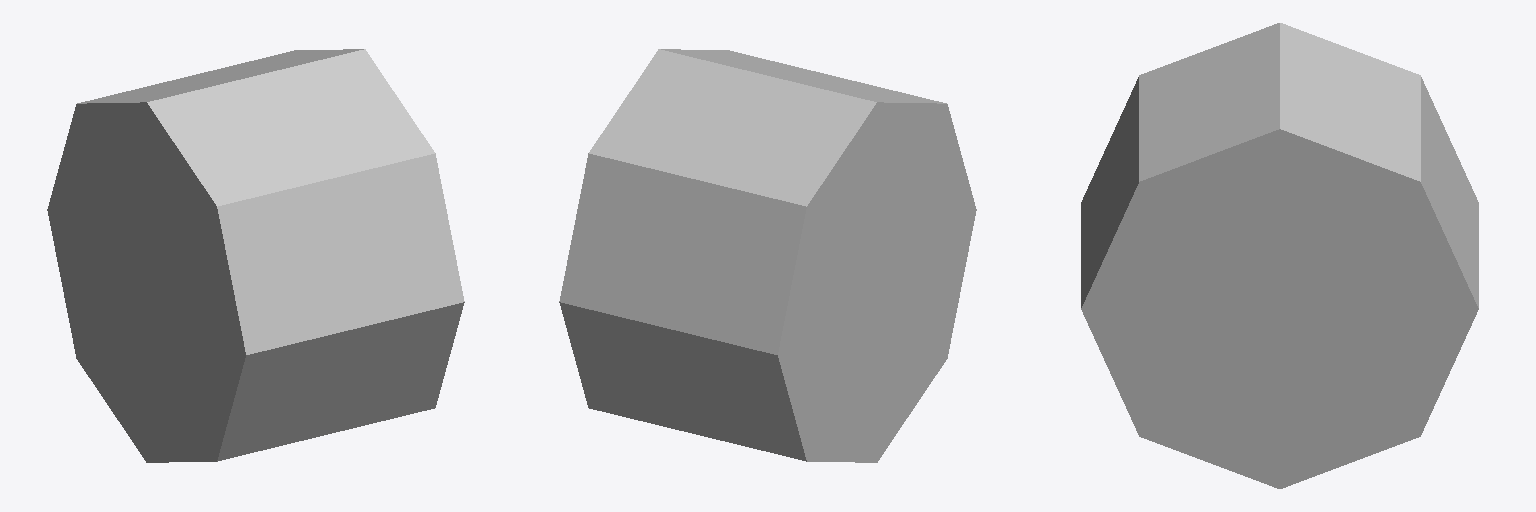
The model's file is WheelFrontR.obj.
3 renders of one model, left to right at view 1: azimuth 30°, elevation 25°; view 2: azimuth 150°, elevation 25°; view 3: azimuth 270°, elevation 25°, orthographic.
Parts seen in each view (by area): view 1: WheelFrontR; view 2: WheelFrontR; view 3: WheelFrontR.
Part boxes in pixels (x1,y1,x2,y2): WheelFrontR: (47, 49, 464, 462); WheelFrontR: (559, 49, 976, 462); WheelFrontR: (1081, 23, 1478, 488).
Bounding box in the file's own units: 0.7632 × 1.2 × 1.2.